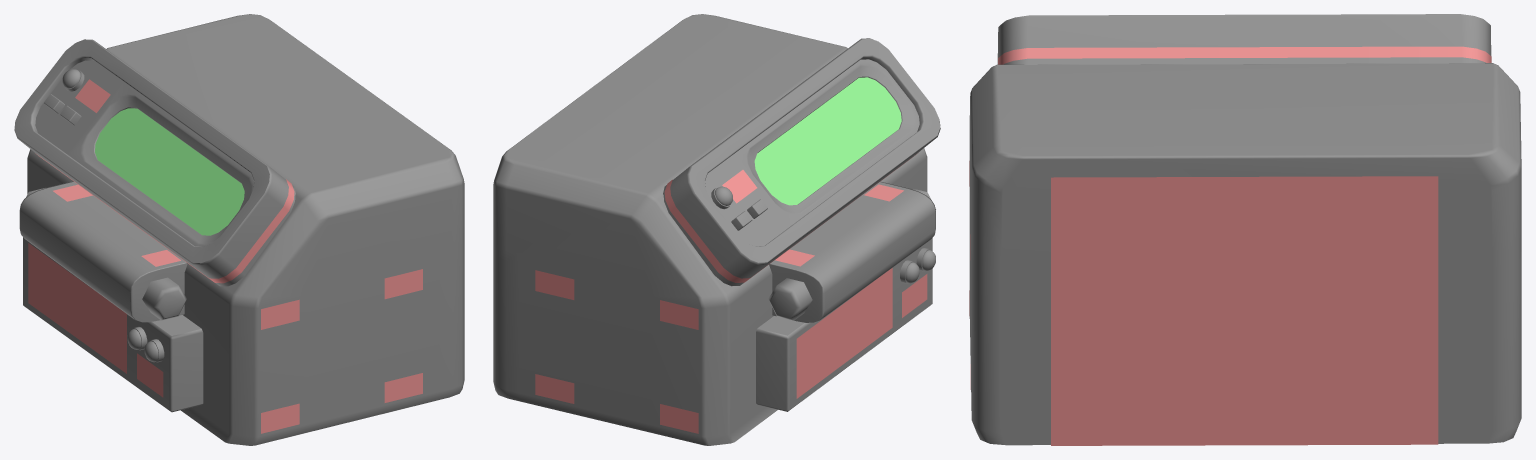
File: SM_Navigator.gltf
3 renders of one model, left to right at view 1: azimuth 30°, elevation 25°; view 2: azimuth 150°, elevation 25°; view 3: azimuth 270°, elevation 25°, orthographic. The views are drawn at different scales.
Parts seen in each view (by area): view 1: SM_Navigator; view 2: SM_Navigator; view 3: SM_Navigator.
Boxes of the visible parts, x1,y1,x2,y2 form: SM_Navigator: (14,14,464,445); SM_Navigator: (493,14,940,445); SM_Navigator: (969,14,1521,445).
Size of the model in its own units: 0.5202 by 0.4417 by 0.6923.
